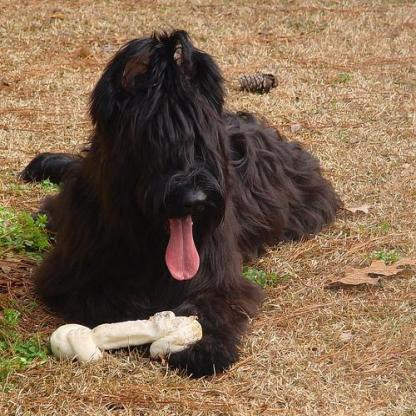briard: (17, 28, 340, 381)
